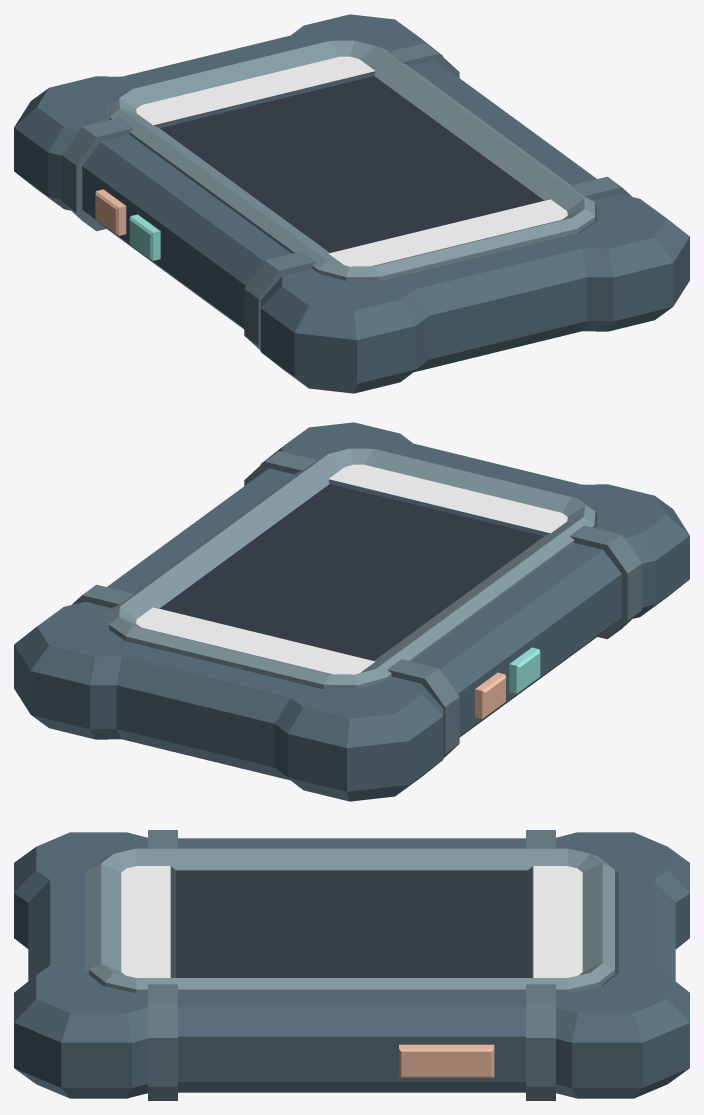
The model's file is TerminalPhone.fbx.
The picture shows the model from 3 angles, top to bottom: view 1: azimuth 30°, elevation 25°; view 2: azimuth 150°, elevation 25°; view 3: azimuth 270°, elevation 25°; orthographic projection. The views are drawn at different scales.
Parts seen in each view (by area): view 1: Cube, Plane, Cube.001, Cube.003, Plane.001, Plane.002, Cube.002, Cube.004, Cube.005; view 2: Cube, Plane, Cube.001, Cube.003, Plane.002, Plane.001, Cube.002, Cube.005, Cube.004; view 3: Cube, Plane, Cube.001, Cube.003, Plane.001, Plane.002, Cube.006, Cube.002.
Boxes of the visible parts, x1=… form: Cube: x1=14, y1=14, x2=689, y2=393; Plane: x1=160, y1=76, x2=543, y2=252; Cube.001: x1=108, y1=40, x2=595, y2=281; Cube.003: x1=61, y1=43, x2=631, y2=350; Plane.001: x1=136, y1=56, x2=374, y2=125; Plane.002: x1=328, y1=199, x2=567, y2=266; Cube.002: x1=154, y1=71, x2=549, y2=253; Cube.004: x1=95, y1=189, x2=126, y2=235; Cube.005: x1=129, y1=214, x2=160, y2=260; Cube: x1=14, y1=422, x2=689, y2=801; Plane: x1=160, y1=484, x2=543, y2=660; Cube.001: x1=108, y1=448, x2=595, y2=689; Cube.003: x1=72, y1=451, x2=642, y2=758; Plane.002: x1=329, y1=464, x2=567, y2=533; Plane.001: x1=136, y1=607, x2=375, y2=674; Cube.002: x1=154, y1=479, x2=549, y2=661; Cube.005: x1=509, y1=647, x2=540, y2=693; Cube.004: x1=475, y1=672, x2=505, y2=718; Cube: x1=14, y1=832, x2=689, y2=1098; Plane: x1=176, y1=870, x2=527, y2=977; Cube.001: x1=89, y1=848, x2=614, y2=992; Cube.003: x1=148, y1=830, x2=555, y2=1100; Plane.001: x1=533, y1=866, x2=582, y2=977; Plane.002: x1=121, y1=866, x2=170, y2=977; Cube.006: x1=399, y1=1044, x2=494, y2=1077; Cube.002: x1=170, y1=866, x2=533, y2=977.
Bounding box in the file's own units: 2 × 0.4715 × 2.86.
